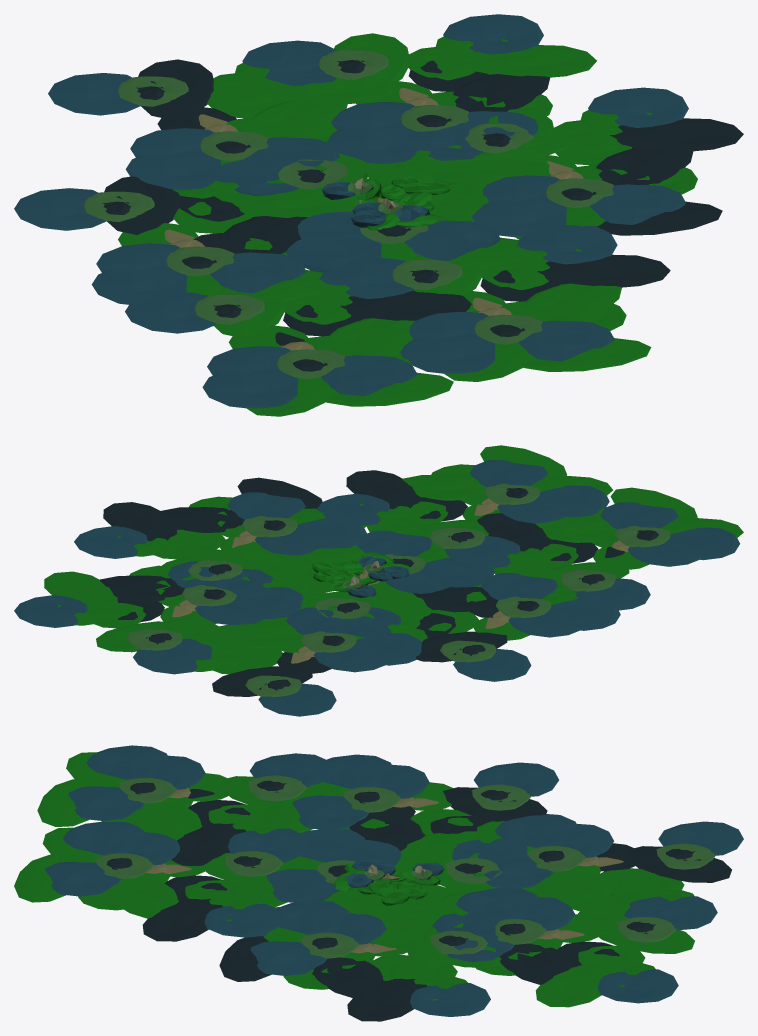
Rendered from Island.FBX.
The picture shows the model from 3 angles, top to bottom: view 1: azimuth 30°, elevation 25°; view 2: azimuth 150°, elevation 25°; view 3: azimuth 270°, elevation 25°; orthographic projection. The views are drawn at different scales.
Visible parts, largest first — view 1: GeoSphere319, GeoSphere318; view 2: GeoSphere319, GeoSphere318; view 3: GeoSphere319, GeoSphere318.
Boxes of the visible parts, box(x1,y1,x2,y2) form: GeoSphere319: box(14, 14, 743, 416); GeoSphere318: box(322, 176, 450, 230); GeoSphere319: box(14, 445, 743, 716); GeoSphere318: box(312, 552, 410, 597); GeoSphere319: box(14, 745, 743, 1021); GeoSphere318: box(334, 860, 443, 905).
Size of what is drawn, in the model's own units: 321 by 8.71 by 358.
